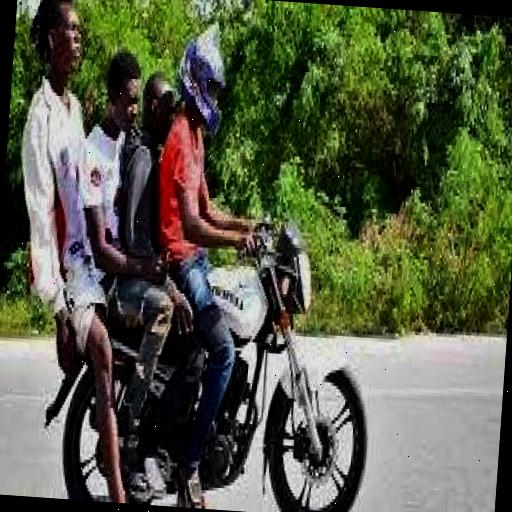helmet: (176, 17, 252, 162)
triple riding: (0, 0, 417, 512)
